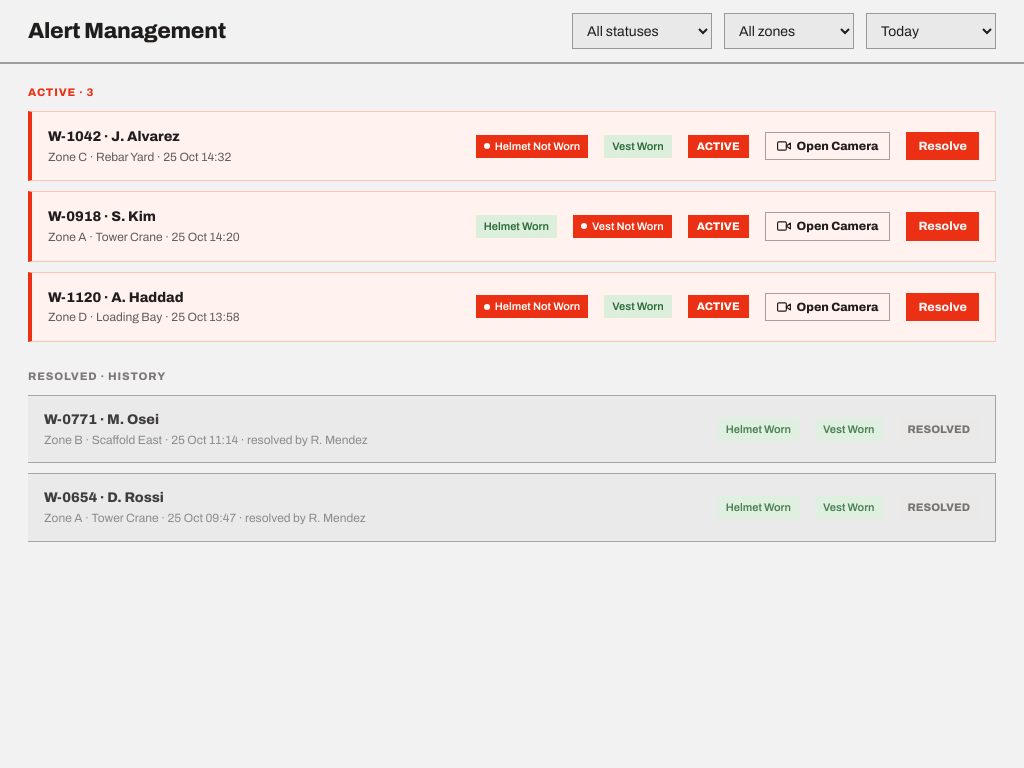
Test case: AlertsScreen › leaves the alert untouched when the prompt is cancelled
Click the button "Resolve" in the row of "25 Oct 14:32": coordinates (943, 146) [906, 132, 979, 160]
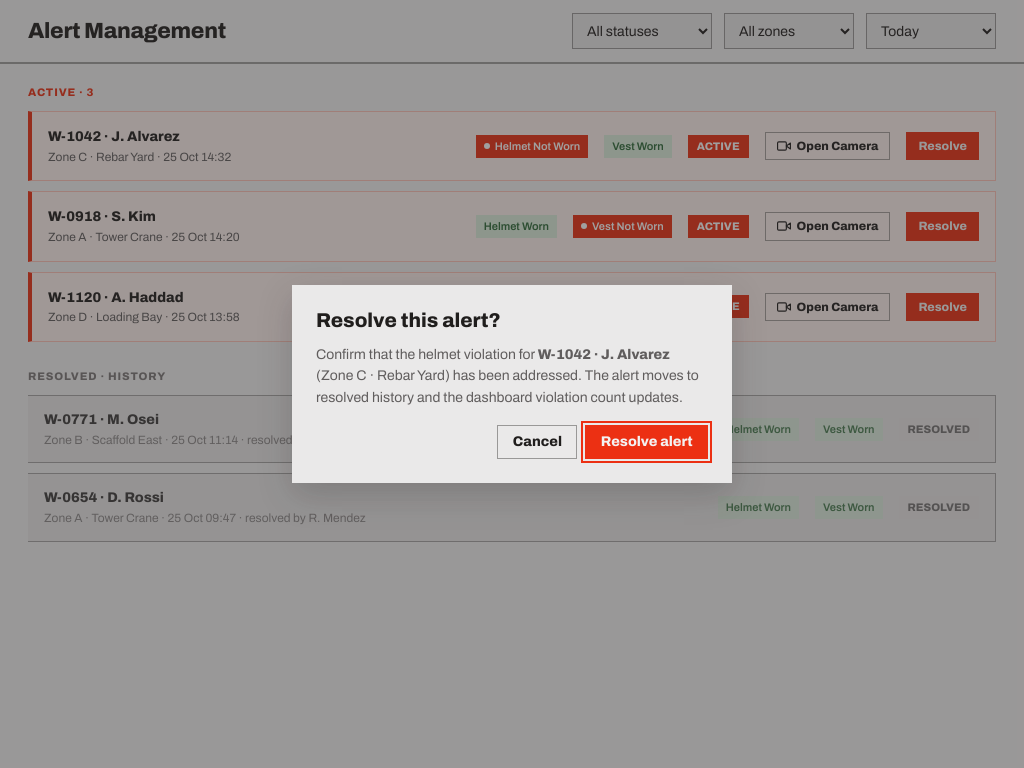
Click the button "Cancel": coordinates (538, 442) [498, 425, 578, 459]
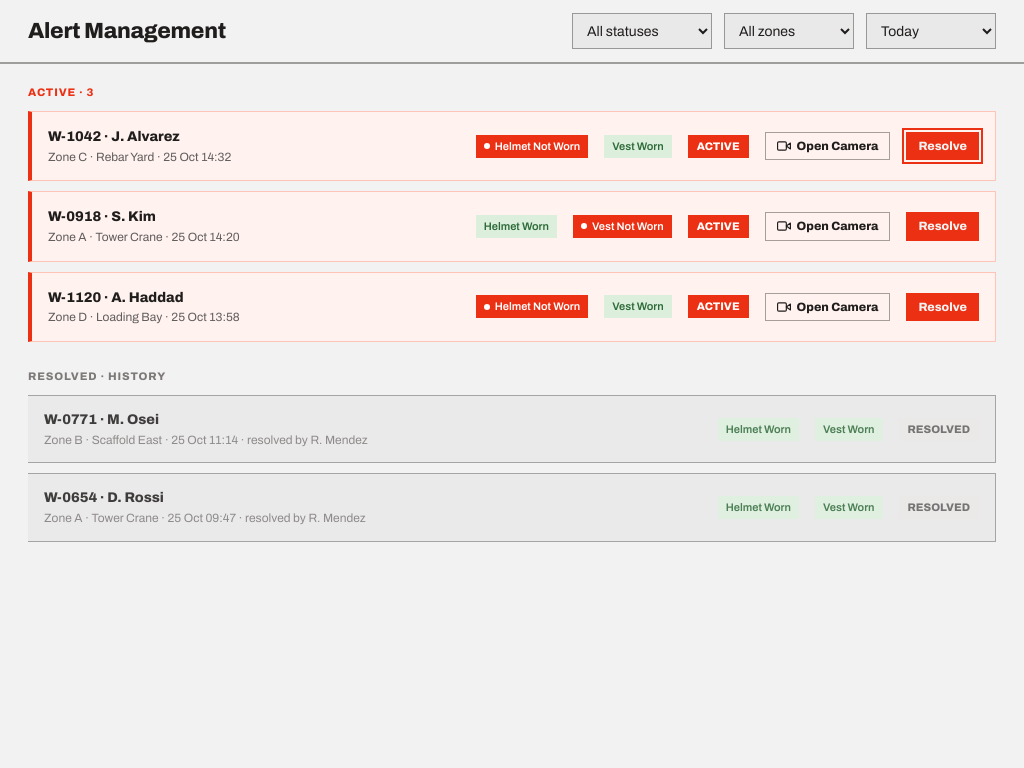
Expected: the text "Active · 3" is shown, [28, 86, 94, 98]
Expected: the dialog is gone
